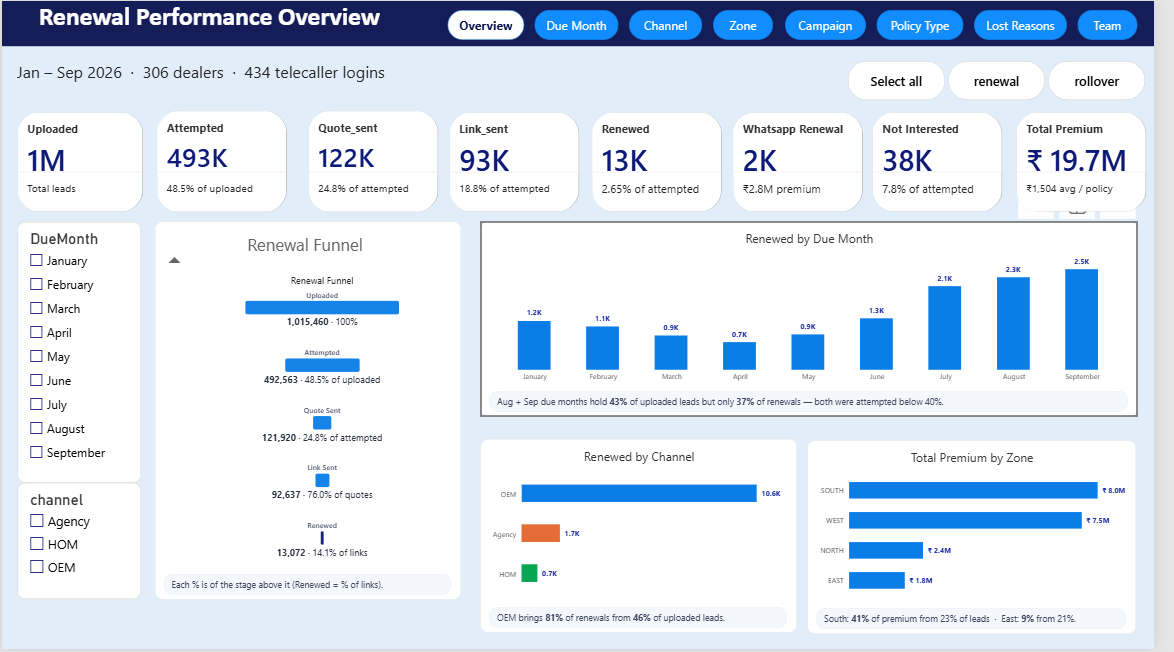

This screenshot's page, from the dashboard's own definition file:
{"tool":"powerbi","page":{"name":"Overview","canvas":[1920,1080],"ordinal":0},"visuals":[{"type":"textbox","box":[0,0,1920,75],"z":0},{"type":"shape","box":[742.5,13.7,128,50],"z":1000,"group":"g2"},{"type":"advancedSlicerVisual","fields":{"Values":["RAW DATA(JAN-SEPT).campignname"]},"box":[1410,100,497.5,65],"z":1000},{"type":"cardVisual","fields":{"Data":["CountNonNull(RAW DATA(JAN-SEPT).assigned_id)"]},"box":[24.4,184.4,210.3,167.5],"z":1000,"group":"g3"},{"type":"shape","box":[888.4,13.7,140,50],"z":2000,"group":"g2"},{"type":"cardVisual","fields":{"Data":["RAW DATA(JAN-SEPT).Attempted"]},"box":[256.4,183,217.6,170.8],"z":2000,"group":"g3"},{"type":"group","id":"g1","title":"Group 3","box":[24.4,368.4,209.8,629.5],"z":2000},{"type":"shape","box":[1046.2,13.7,122,50],"z":3000,"group":"g2"},{"type":"tableEx","fields":{"Values":["RAW DATA(JAN-SEPT).Funnel SVG"]},"box":[255,367.5,510,630],"z":3000},{"type":"slicer","fields":{"Values":["RAW DATA(JAN-SEPT).DueMonth"]},"box":[24.4,368.4,207.5,436.2],"z":3000,"group":"g1"},{"type":"shape","box":[1186.1,13.7,100,50],"z":4000,"group":"g2"},{"type":"clusteredColumnChart","title":"Renewed by Due Month","fields":{"Category":["RAW DATA(JAN-SEPT).DueMonth"],"Y":["RAW DATA(JAN-SEPT).Renewed"]},"box":[797.5,367.5,1095,325],"z":4000},{"type":"slicer","fields":{"Values":["RAW DATA(JAN-SEPT).channel"]},"box":[24.4,803.7,207.5,194.7],"z":4002,"group":"g1"},{"type":"shape","box":[1303.9,13.7,135,50],"z":5000,"group":"g2"},{"type":"cardVisual","fields":{"Data":["RAW DATA(JAN-SEPT).Link_sent_count"]},"box":[744.8,185,217.9,167.5],"z":5000,"group":"g3"},{"type":"clusteredBarChart","title":"Renewed by Channel","fields":{"Category":["RAW DATA(JAN-SEPT).channel"],"Y":["RAW DATA(JAN-SEPT).Renewed"]},"box":[797.5,730,527.5,322.5],"z":5000},{"type":"shape","box":[1456.8,13.7,145,50],"z":6000,"group":"g2"},{"type":"cardVisual","fields":{"Data":["RAW DATA(JAN-SEPT).Renewed"]},"box":[983,185,217.9,167.5],"z":6000,"group":"g3"},{"type":"clusteredBarChart","title":"Total Premium by Zone","fields":{"Category":["RAW DATA(JAN-SEPT).dealerzone"],"Y":["RAW DATA(JAN-SEPT).Total Premium"]},"box":[1342.5,732.5,547.5,322.5],"z":6000},{"type":"group","id":"g2","title":"Group 1","box":[742.5,12.5,1150,52.5],"z":7000},{"type":"shape","box":[1619.6,13.7,155,50],"z":7000,"group":"g2"},{"type":"shape","box":[1792.5,13.7,100,50],"z":8000,"group":"g2"},{"type":"textbox","box":[25,100,842.5,65],"z":8000},{"type":"group","id":"g3","title":"Group 2","box":[24.4,183,1883.5,170.8],"z":9000},{"type":"cardVisual","fields":{"Data":["RAW DATA(JAN-SEPT).Whatsapp_renewal_count"]},"box":[1216.1,185,217.9,167.5],"z":10000,"group":"g3"},{"type":"cardVisual","fields":{"Data":["RAW DATA(JAN-SEPT).Not Interested"]},"box":[1449.3,185,217.9,167.5],"z":11000,"group":"g3"},{"type":"cardVisual","fields":{"Data":["RAW DATA(JAN-SEPT).Total Premium"]},"box":[1690,185,217.9,167.5],"z":12000,"group":"g3"},{"type":"cardVisual","fields":{"Data":["RAW DATA(JAN-SEPT).Quote_sent"]},"box":[508.6,183,217.6,170.8],"z":12009,"group":"g3"},{"type":"textbox","box":[271,955.5,478,34],"z":12109},{"type":"textbox","box":[813.5,650.5,1063,34],"z":12209},{"type":"textbox","box":[813.5,1010.5,495.5,34],"z":12309},{"type":"textbox","box":[1358.5,1013,515.5,34],"z":12409}]}

Visuals, with their boxes in screenshot pixels (x1, y1, x2, y2), scaled from the page's 1920x1080 canvas onto the 1174x652 screenshot:
textbox: [0, 0, 1173, 45]
shape: [454, 8, 532, 38]
advancedSlicerVisual - RAW DATA(JAN-SEPT).campignname: [862, 60, 1166, 100]
cardVisual - CountNonNull(RAW DATA(JAN-SEPT).assigned_id): [15, 111, 144, 212]
shape: [543, 8, 629, 38]
cardVisual - RAW DATA(JAN-SEPT).Attempted: [157, 110, 290, 214]
"Group 3" group: [15, 222, 143, 602]
shape: [640, 8, 714, 38]
tableEx - RAW DATA(JAN-SEPT).Funnel SVG: [156, 222, 468, 602]
slicer - RAW DATA(JAN-SEPT).DueMonth: [15, 222, 142, 486]
shape: [725, 8, 786, 38]
"Renewed by Due Month" clusteredColumnChart: [488, 222, 1157, 418]
slicer - RAW DATA(JAN-SEPT).channel: [15, 485, 142, 603]
shape: [797, 8, 880, 38]
cardVisual - RAW DATA(JAN-SEPT).Link_sent_count: [455, 112, 589, 213]
"Renewed by Channel" clusteredBarChart: [488, 441, 810, 635]
shape: [891, 8, 979, 38]
cardVisual - RAW DATA(JAN-SEPT).Renewed: [601, 112, 734, 213]
"Total Premium by Zone" clusteredBarChart: [821, 442, 1156, 637]
"Group 1" group: [454, 8, 1157, 39]
shape: [990, 8, 1085, 38]
shape: [1096, 8, 1157, 38]
textbox: [15, 60, 530, 100]
"Group 2" group: [15, 110, 1167, 214]
cardVisual - RAW DATA(JAN-SEPT).Whatsapp_renewal_count: [744, 112, 877, 213]
cardVisual - RAW DATA(JAN-SEPT).Not Interested: [886, 112, 1019, 213]
cardVisual - RAW DATA(JAN-SEPT).Total Premium: [1033, 112, 1167, 213]
cardVisual - RAW DATA(JAN-SEPT).Quote_sent: [311, 110, 444, 214]
textbox: [166, 577, 458, 597]
textbox: [497, 393, 1147, 413]
textbox: [497, 610, 800, 631]
textbox: [831, 612, 1146, 632]
